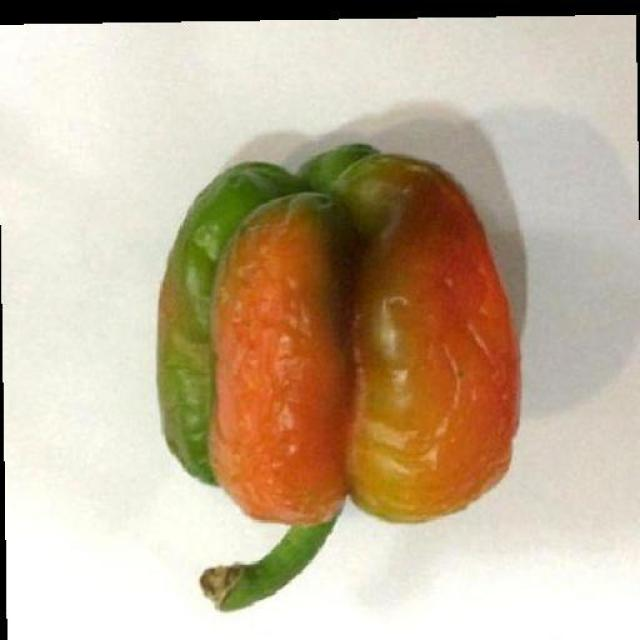Stale_Capsicum: (170, 135, 534, 520)
